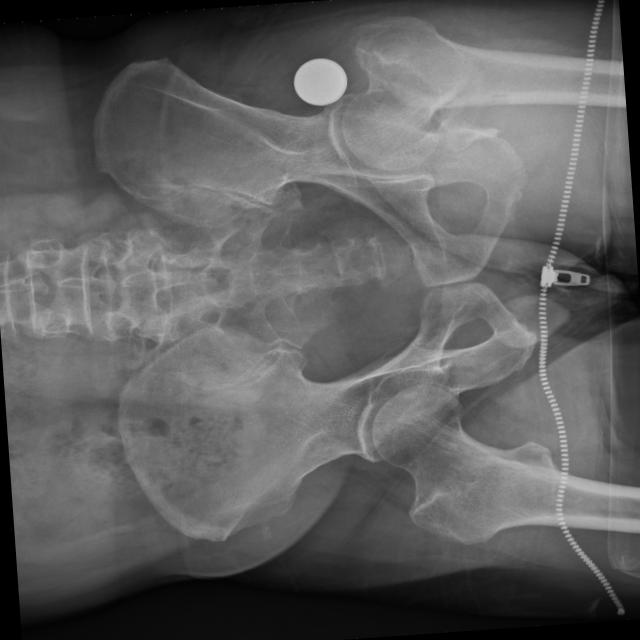left-intertrochanteric: (347, 13, 522, 107), (342, 52, 468, 171)
left-lesser-trochanter: (435, 117, 500, 150)
normal-right: (371, 383, 624, 544)
